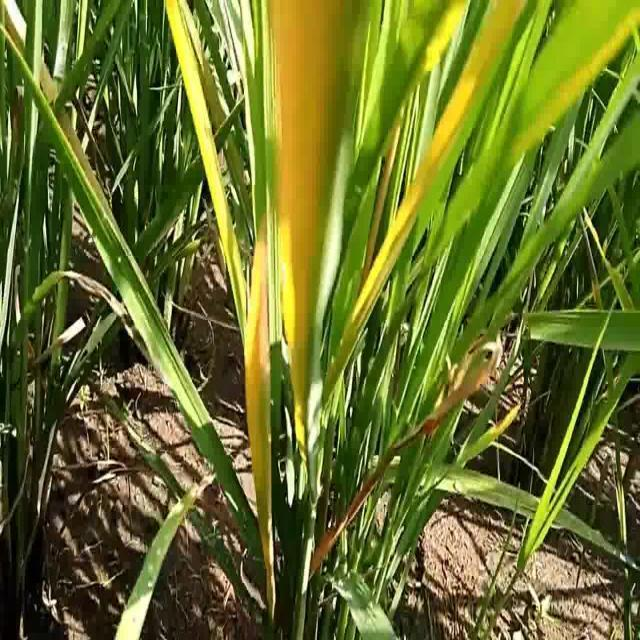Rice Tungro: (162, 1, 279, 611), (350, 4, 529, 341), (265, 4, 328, 456)
